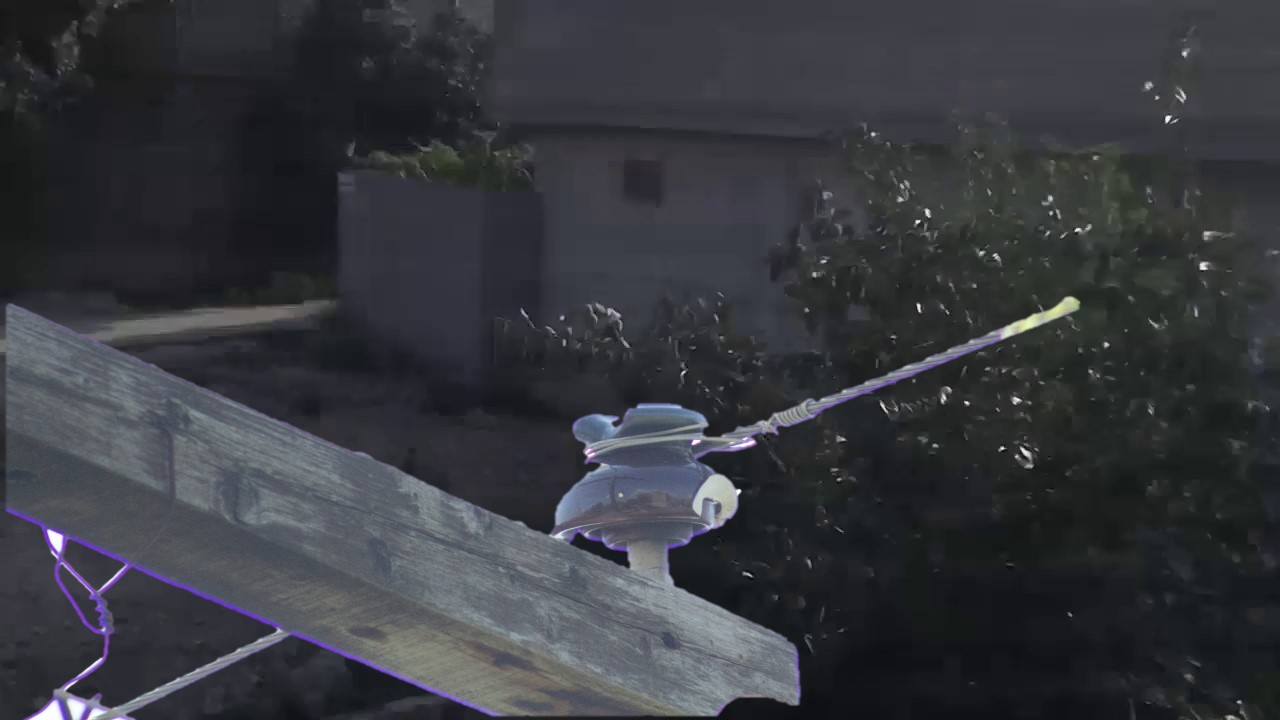defect_pin: (548, 392, 747, 556)
